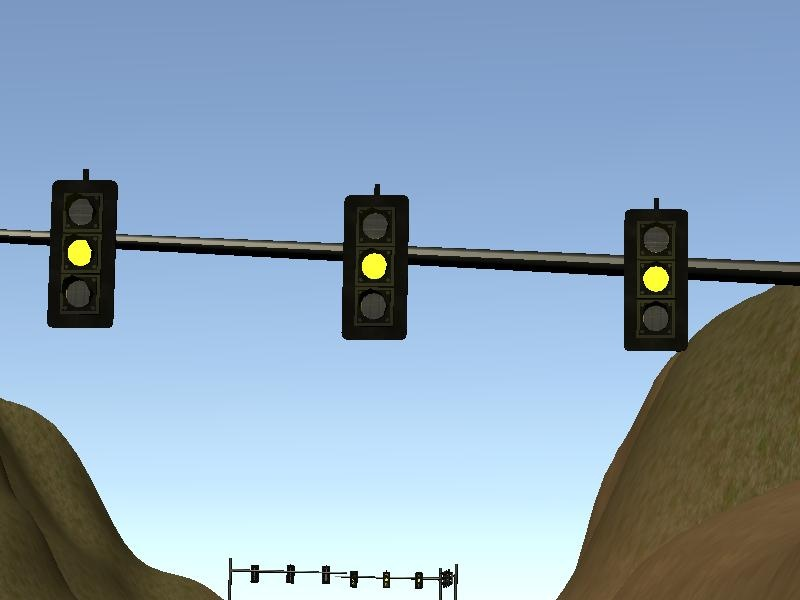yellow: (329, 176, 418, 347), (37, 165, 124, 338), (612, 190, 697, 358)
